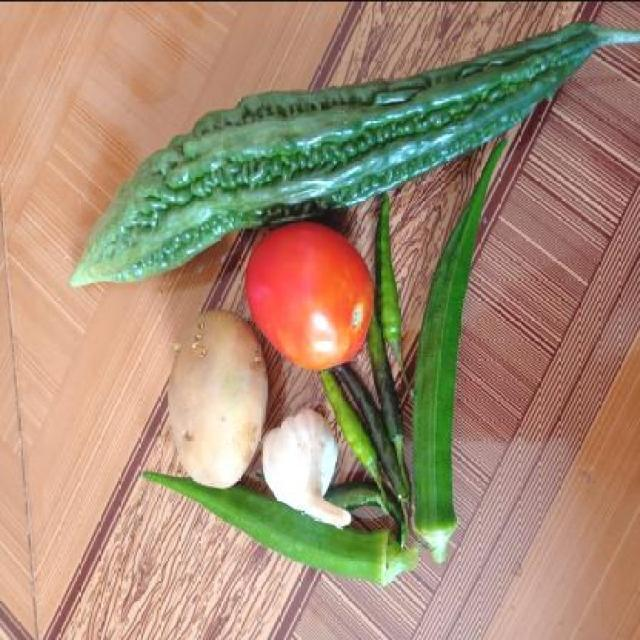Bitter melon: (95, 88, 572, 254)
Garlic: (260, 403, 343, 511)
Green Chili: (354, 269, 412, 488)
Lady finger: (416, 154, 512, 548)
Potato: (174, 300, 263, 494)
Tomato: (244, 216, 370, 382)
